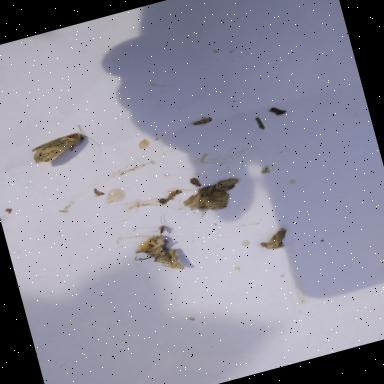pbw: (28, 121, 103, 172), (267, 226, 290, 248), (260, 237, 286, 254)
